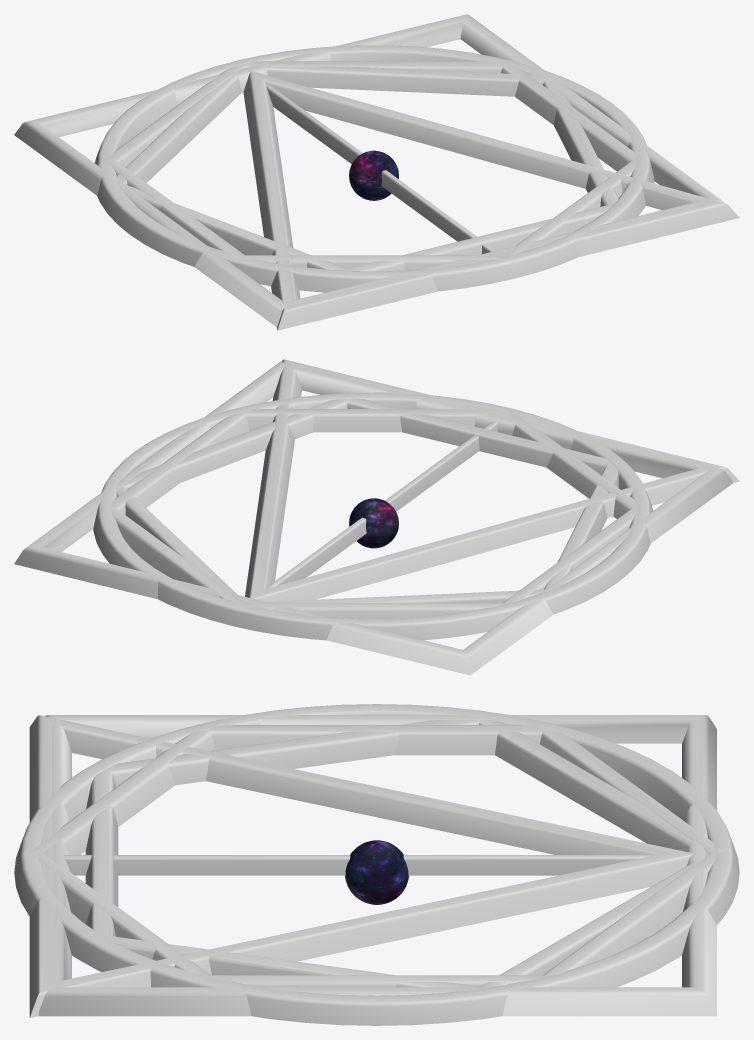
File: All Shapes03 (2).fbx
3 renders of one model, top to bottom at view 1: azimuth 30°, elevation 25°; view 2: azimuth 150°, elevation 25°; view 3: azimuth 270°, elevation 25°, orthographic. The views are drawn at different scales.
Parts seen in each view (by area): view 1: Traingle, Circle, Pentagon, Square, Hexagon, Divider, Ball; view 2: Square, Circle, Hexagon, Traingle, Pentagon, Divider, Ball; view 3: Traingle, Circle, Square, Hexagon, Pentagon, Divider, Ball.
Part boxes in pixels (x1,y1,x2,y2): Traingle: (243, 71, 739, 330); Circle: (95, 45, 654, 292); Pentagon: (116, 66, 618, 271); Square: (14, 14, 724, 327); Hexagon: (104, 61, 636, 278); Divider: (266, 84, 495, 254); Ball: (349, 150, 398, 200); Square: (14, 361, 732, 675); Circle: (93, 392, 653, 640); Hexagon: (110, 409, 638, 626); Traingle: (245, 359, 739, 601); Pentagon: (116, 398, 618, 602); Divider: (266, 421, 497, 588); Ball: (349, 498, 398, 548); Traingle: (29, 715, 693, 1017); Circle: (14, 704, 739, 1025); Square: (38, 715, 716, 1016); Hexagon: (14, 725, 739, 987); Pentagon: (85, 720, 709, 987); Divider: (64, 855, 652, 875); Ball: (345, 840, 408, 904).
Size of the model in its own units: 206 by 18.34 by 206.
1 material, 1 textured.
